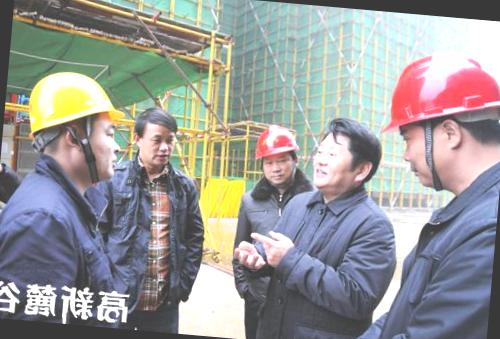no_helmet: (305, 114, 389, 204), (128, 102, 184, 173)
